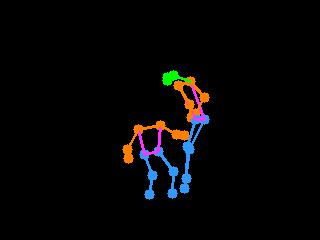normal: (117, 117, 189, 204)
